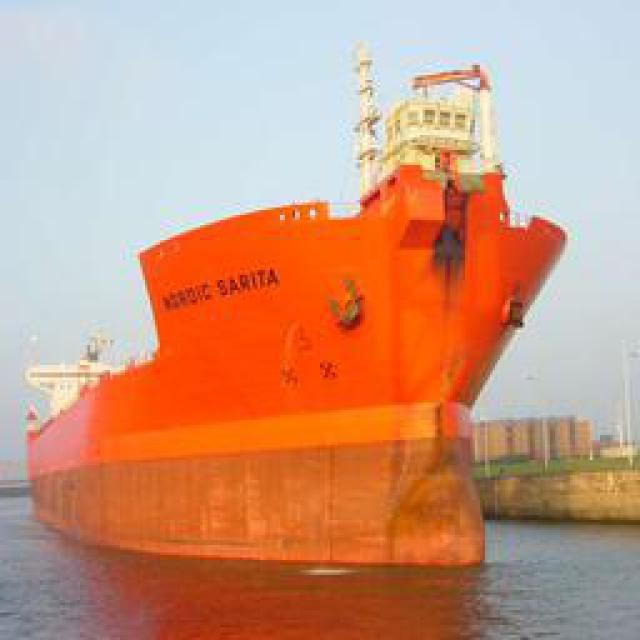Ship: (35, 17, 580, 585)
